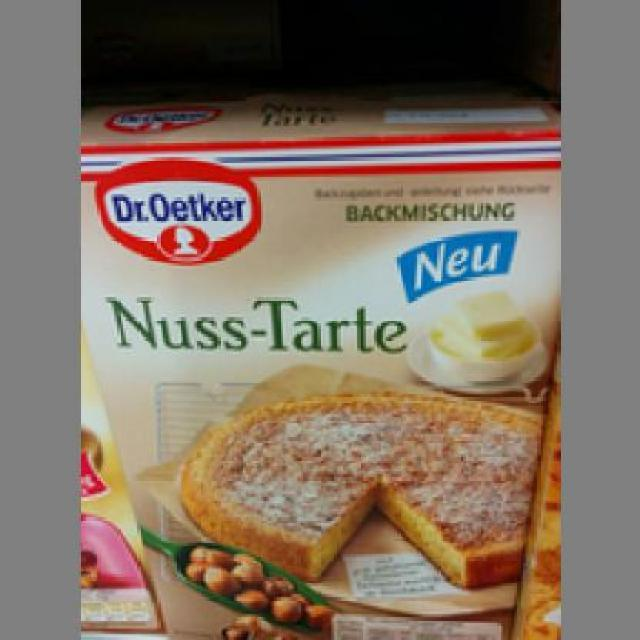Cake: (77, 97, 557, 637)
